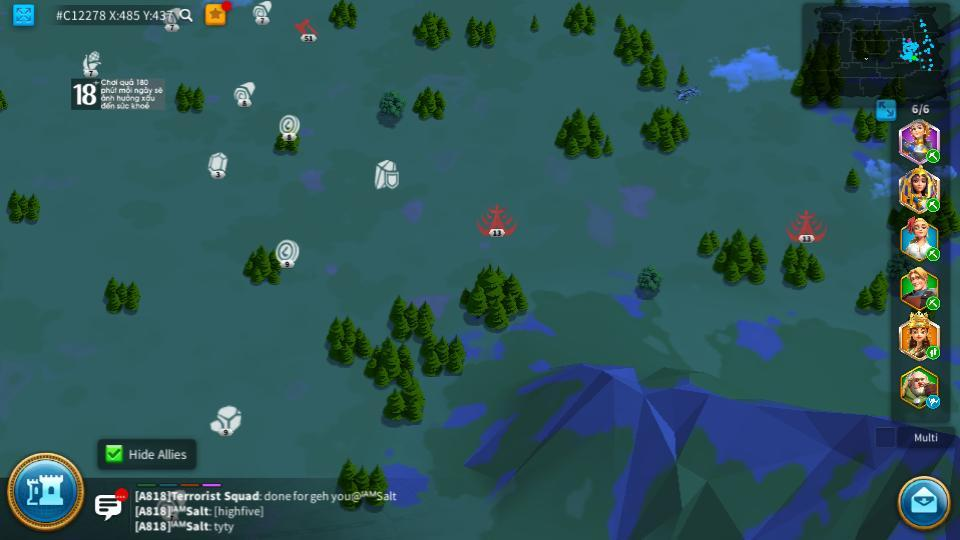gem-z-out: (205, 152, 228, 178)
march_farming: (925, 197, 941, 212), (925, 149, 941, 162)
march_idle: (925, 394, 942, 408)
march_marching: (925, 345, 941, 359), (925, 297, 942, 308)
